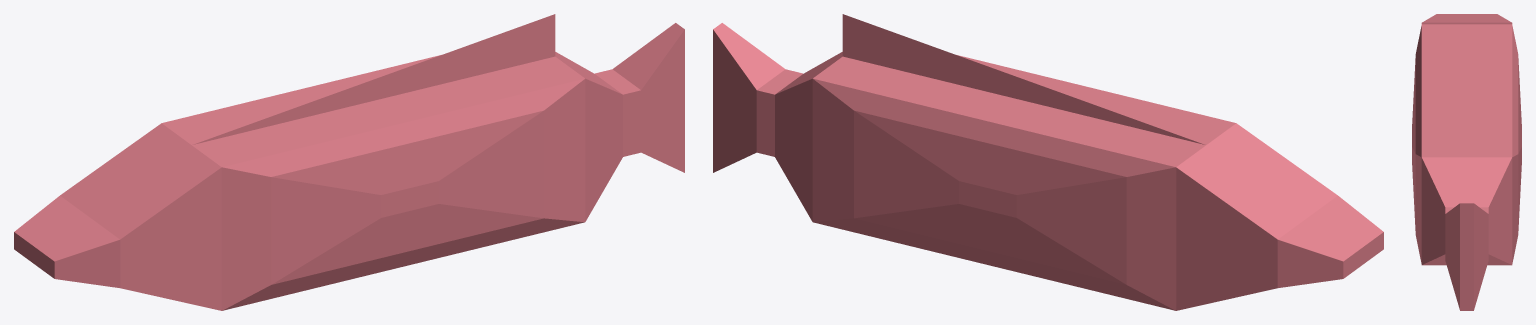
Rendered from Fish.fbx.
3 renders of one model, left to right at view 1: azimuth 30°, elevation 25°; view 2: azimuth 150°, elevation 25°; view 3: azimuth 270°, elevation 25°, orthographic. The views are drawn at different scales.
Visible parts, largest first — view 1: Cube; view 2: Cube; view 3: Cube.
Part boxes in pixels (x1,y1,x2,y2): Cube: (14,14,684,310); Cube: (713,14,1383,310); Cube: (1412,14,1521,310).
Bounding box in the file's own units: 1.04 × 0.2877 × 0.2049.
